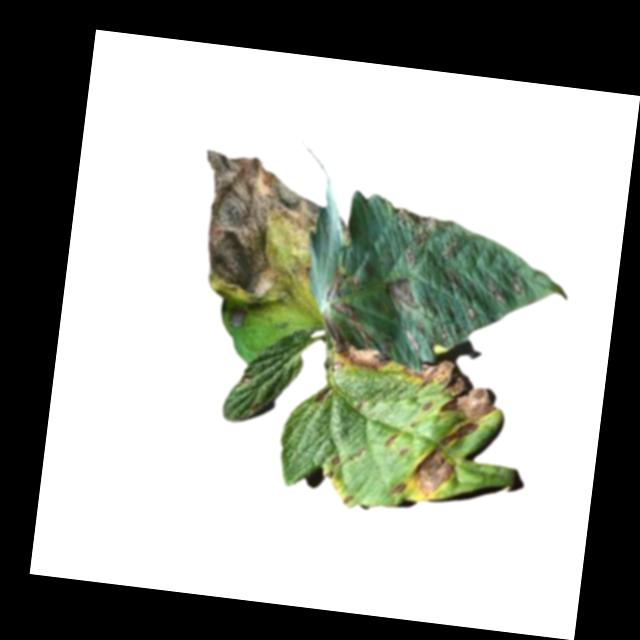Early_blight: (188, 145, 327, 308), (395, 355, 503, 423), (320, 266, 373, 345), (408, 445, 458, 501), (389, 204, 443, 250), (334, 342, 386, 371), (384, 279, 423, 312), (440, 419, 479, 450), (227, 303, 248, 329), (487, 284, 510, 304), (312, 385, 332, 406), (391, 478, 409, 497), (401, 248, 417, 268)
